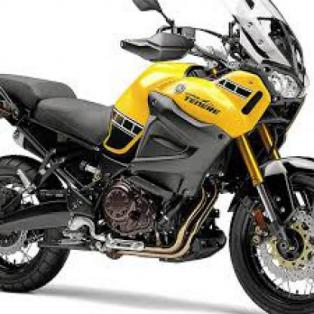Motocicleta: (1, 0, 312, 312)
